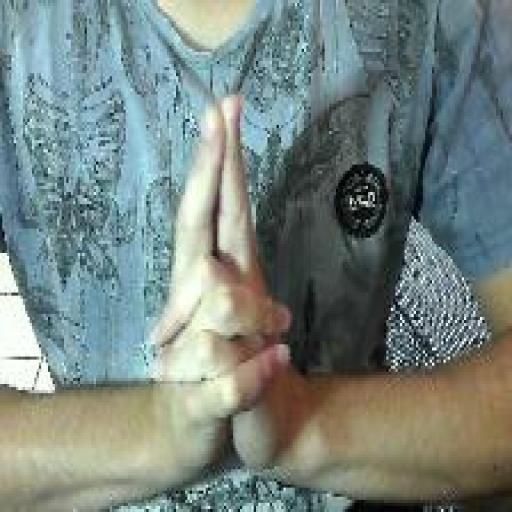Tora -tiger-: (145, 90, 298, 495)
